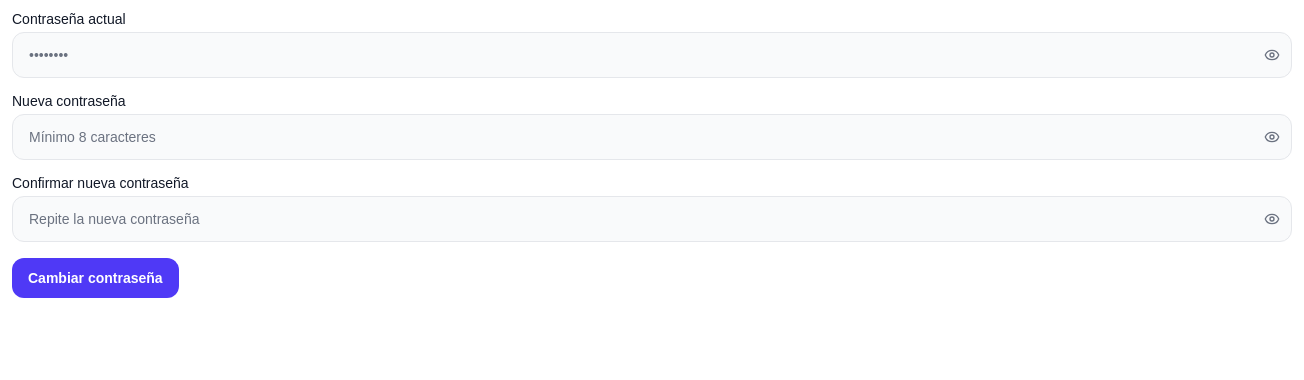
Test case: ChangePasswordForm › shows error when new passwords don't match
Type "oldpass123" into the password field labelled "Contraseña actual" at x=652, y=55, box 12,32 -> 1292,78
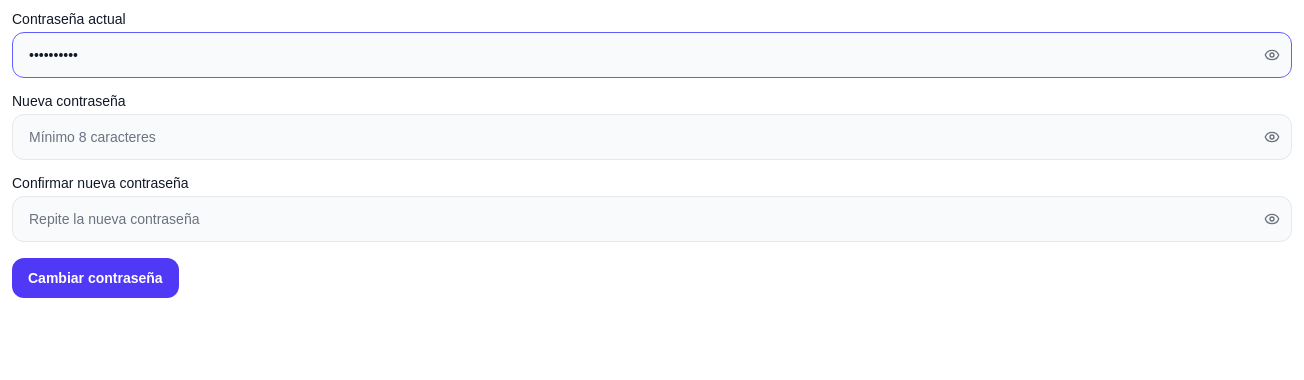
Type "newpass123" into the password field labelled "Nueva contraseña" at x=652, y=137, box 12,114 -> 1292,160
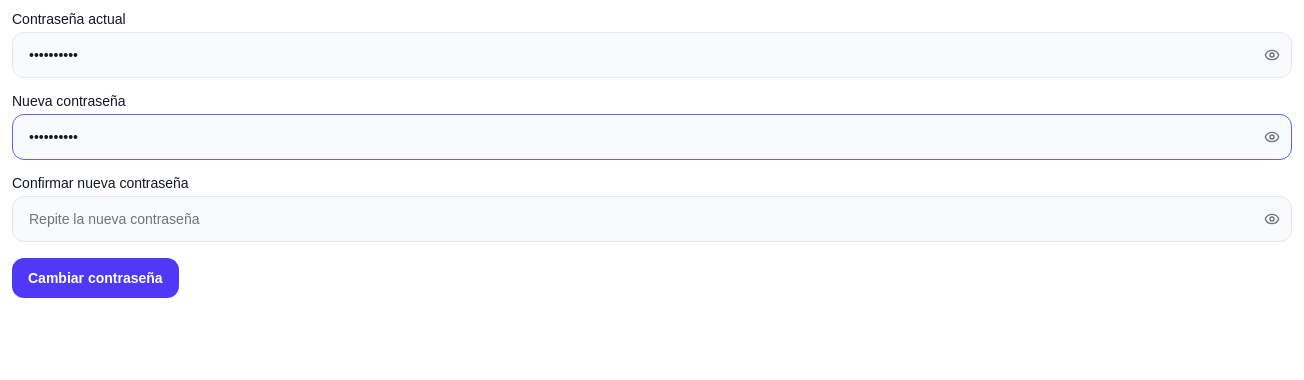
Type "different123" into the password field labelled "Confirmar nueva contraseña" at x=652, y=219, box 12,196 -> 1292,242
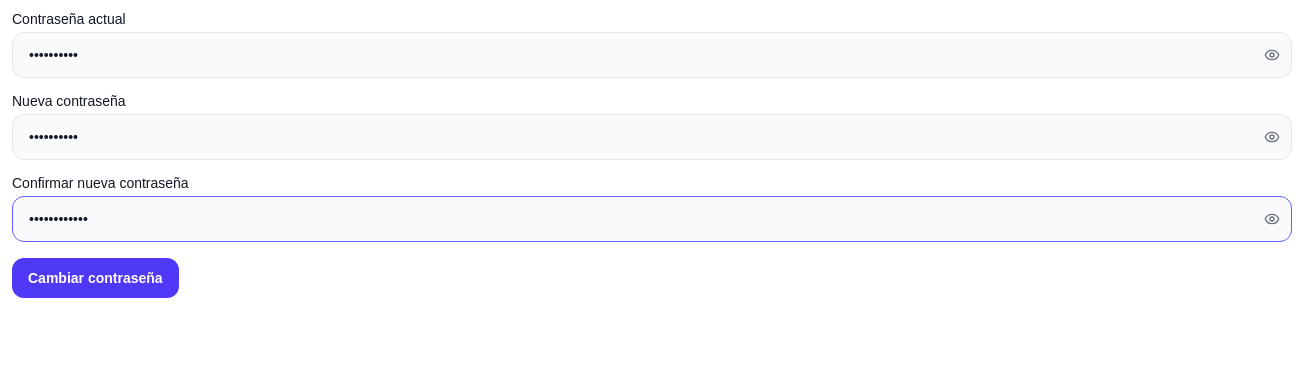
Submit the form "Cambiar contraseña"
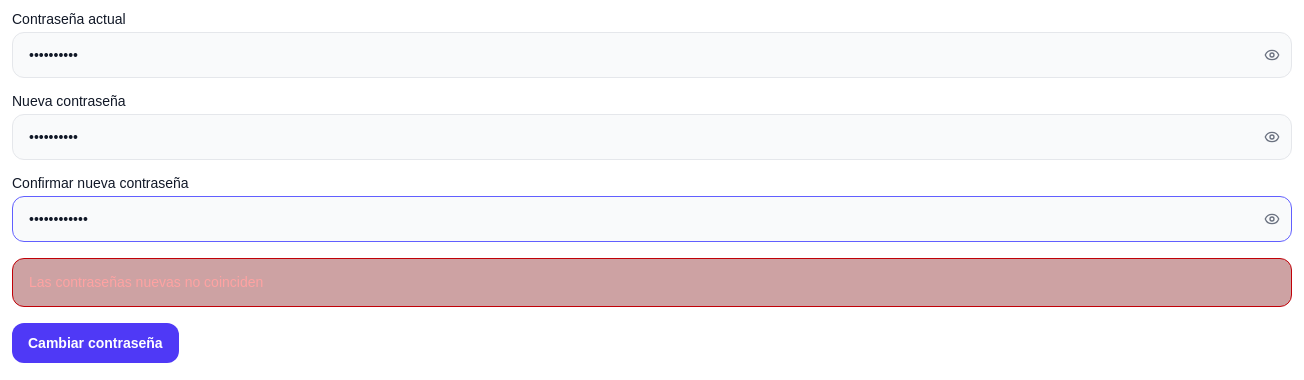
Now the text "Las contraseñas nuevas no coinciden" is shown, box 29,274 -> 263,290
